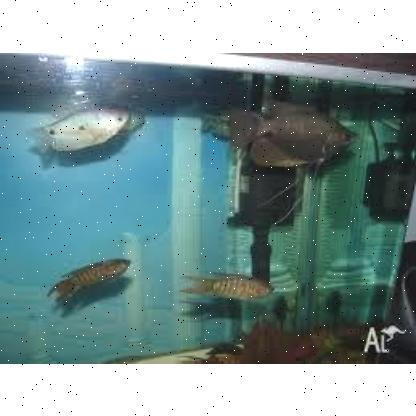gurame: (223, 96, 364, 172), (34, 93, 132, 159)
